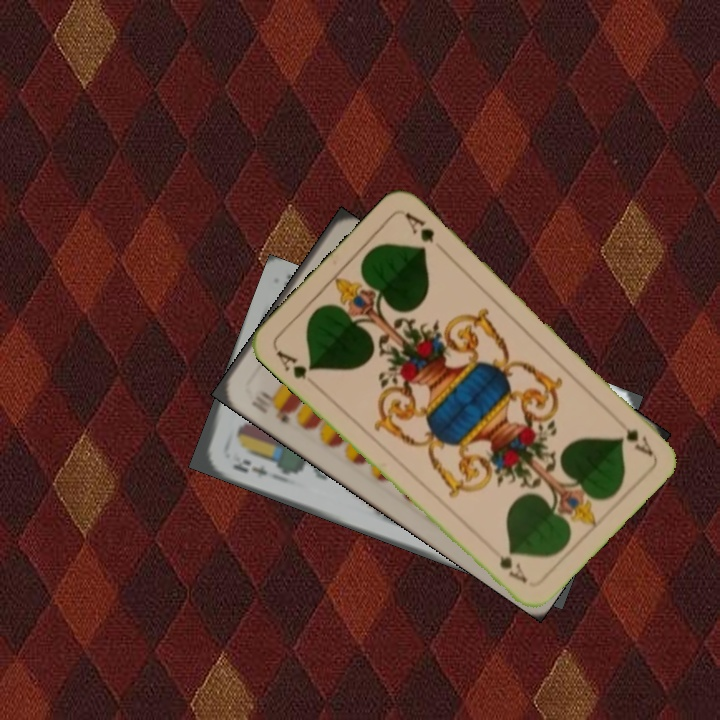E10: (247, 392, 296, 427)
EK: (229, 455, 270, 481)
GA: (609, 413, 656, 459), (271, 345, 317, 381)
